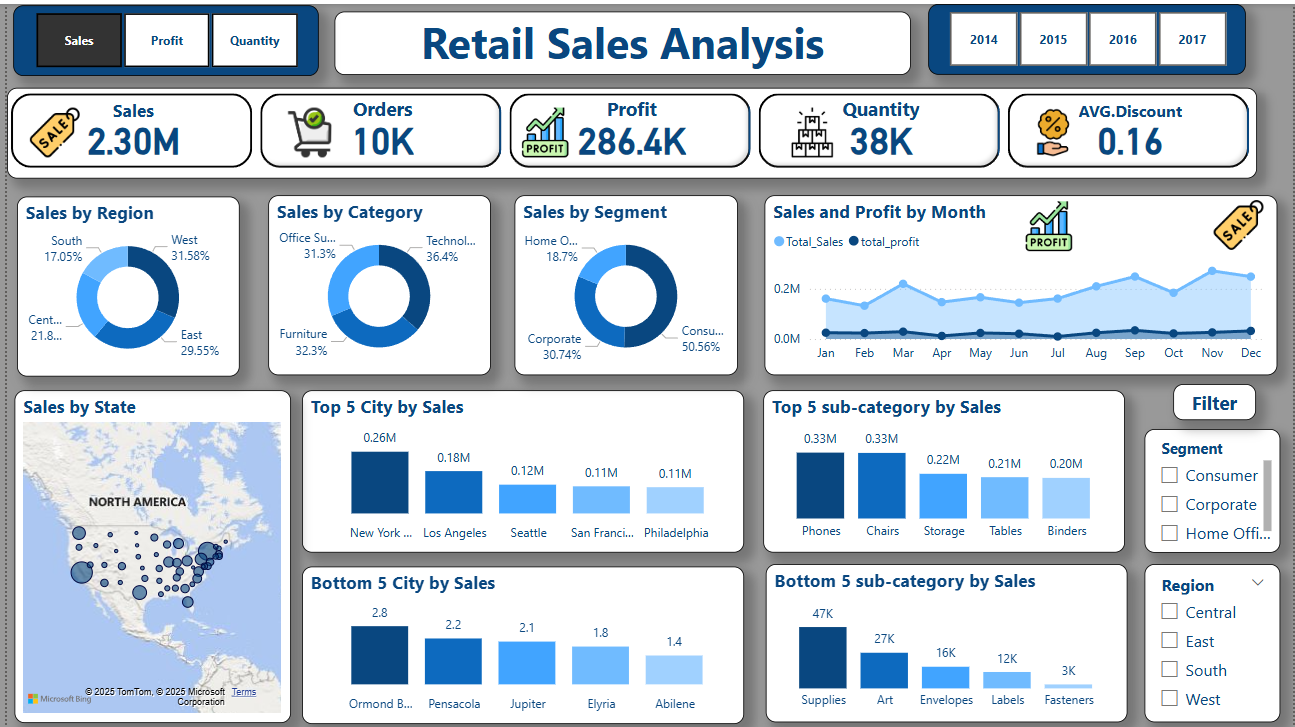

What the dashboard file says about the page in this screenshot:
{"tool":"powerbi","page":{"name":"Retail Sales Analysis","canvas":[1280,720],"ordinal":0},"visuals":[{"type":"clusteredColumnChart","fields":{"Y":["KPIs.Total_Sales"],"Category":["Retails Order Full Dataset.City"]},"box":[293.6,384.4,440,161.7],"z":0},{"type":"textbox","box":[325.9,7.5,573.5,63.4],"z":1000},{"type":"slicer","fields":{"Values":["Parameter.Parameter"]},"box":[6.2,1.2,303.8,70],"z":2000},{"type":"slicer","title":"Year","fields":{"Values":["Calendar Table.Year"]},"box":[916.2,0,316.2,70],"z":3000},{"type":"cardVisual","fields":{"Data":["KPIs.Total_Sales","KPIs.Total_orders","KPIs.total_profit","KPIs.total_quantity","KPIs.Avg.discount"]},"box":[0,83,1243.8,90],"z":4000},{"type":"areaChart","title":"Sales and Profit by Month","fields":{"Category":["Calendar Table.Month Name"],"Y":["KPIs.Total_Sales","KPIs.total_profit"]},"box":[753.8,190.3,510,179.1],"z":5000},{"type":"slicer","fields":{"Values":["Retails Order Full Dataset.Segment"]},"box":[1132,422.9,135.6,123.2],"z":6000},{"type":"slicer","fields":{"Values":["Retails Order Full Dataset.Region"]},"box":[1132,557.3,135.6,158],"z":7000},{"type":"textbox","box":[1160.6,378.2,82.1,36.1],"z":8000},{"type":"map","title":"Sales by State","fields":{"Size":["KPIs.Total_Sales"],"Category":["Retails Order Full Dataset.State"]},"box":[7.5,384.4,274.9,330.9],"z":9000},{"type":"clusteredColumnChart","fields":{"Y":["KPIs.Total_Sales"],"Category":["Retails Order Full Dataset.Sub-Category"]},"box":[752.6,384.4,360,161.7],"z":10000},{"type":"donutChart","fields":{"Y":["KPIs.Total_Sales"],"Category":["Retails Order Full Dataset.Region"]},"box":[10,191.6,221.4,179.1],"z":11000},{"type":"donutChart","fields":{"Y":["KPIs.Total_Sales"],"Category":["Retails Order Full Dataset.Category"]},"box":[260,190.3,221.4,179.1],"z":12000},{"type":"donutChart","fields":{"Y":["KPIs.Total_Sales"],"Category":["Retails Order Full Dataset.Segment"]},"box":[505,190.3,222.7,179.1],"z":13000},{"type":"clusteredColumnChart","fields":{"Y":["KPIs.Total_Sales"],"Category":["Retails Order Full Dataset.City"]},"box":[293.6,559.8,440.4,156.7],"z":14000},{"type":"clusteredColumnChart","fields":{"Y":["KPIs.Total_Sales"],"Category":["Retails Order Full Dataset.Sub-Category"]},"box":[755.1,557.3,360,158],"z":15000},{"type":"image","box":[10,98.3,75.9,59.7],"z":16000},{"type":"image","box":[263.7,98.3,75.9,59.7],"z":17000},{"type":"image","box":[497.6,98.3,75.9,59.7],"z":18000},{"type":"image","box":[763.8,98.3,75.9,59.7],"z":19000},{"type":"image","box":[1003.9,98.3,75.9,59.7],"z":20000},{"type":"image","box":[1188,190.3,75.9,59.7],"z":21000},{"type":"image","box":[998.9,191.6,75.9,59.7],"z":22000}]}

Visuals, with their boxes in screenshot pixels (x1, y1, x2, y2), scaled from the page's 1280x720 canvas onto the 1295x727 screenshot:
clusteredColumnChart - KPIs.Total_Sales x Retails Order Full Dataset.City: <box>297,388,742,551</box>
textbox: <box>330,8,910,72</box>
slicer - Parameter.Parameter: <box>6,1,314,72</box>
"Year" slicer: <box>927,0,1247,71</box>
cardVisual - KPIs.Total_Sales x KPIs.Total_orders: <box>0,84,1258,175</box>
"Sales and Profit by Month" areaChart: <box>763,192,1279,373</box>
slicer - Retails Order Full Dataset.Segment: <box>1145,427,1282,551</box>
slicer - Retails Order Full Dataset.Region: <box>1145,563,1282,722</box>
textbox: <box>1174,382,1257,418</box>
"Sales by State" map: <box>8,388,286,722</box>
clusteredColumnChart - KPIs.Total_Sales x Retails Order Full Dataset.Sub-Category: <box>761,388,1126,551</box>
donutChart - KPIs.Total_Sales x Retails Order Full Dataset.Region: <box>10,193,234,374</box>
donutChart - KPIs.Total_Sales x Retails Order Full Dataset.Category: <box>263,192,487,373</box>
donutChart - KPIs.Total_Sales x Retails Order Full Dataset.Segment: <box>511,192,736,373</box>
clusteredColumnChart - KPIs.Total_Sales x Retails Order Full Dataset.City: <box>297,565,743,723</box>
clusteredColumnChart - KPIs.Total_Sales x Retails Order Full Dataset.Sub-Category: <box>764,563,1128,722</box>
image: <box>10,99,87,160</box>
image: <box>267,99,344,160</box>
image: <box>503,99,580,160</box>
image: <box>773,99,850,160</box>
image: <box>1016,99,1092,160</box>
image: <box>1202,192,1279,252</box>
image: <box>1011,193,1087,254</box>
